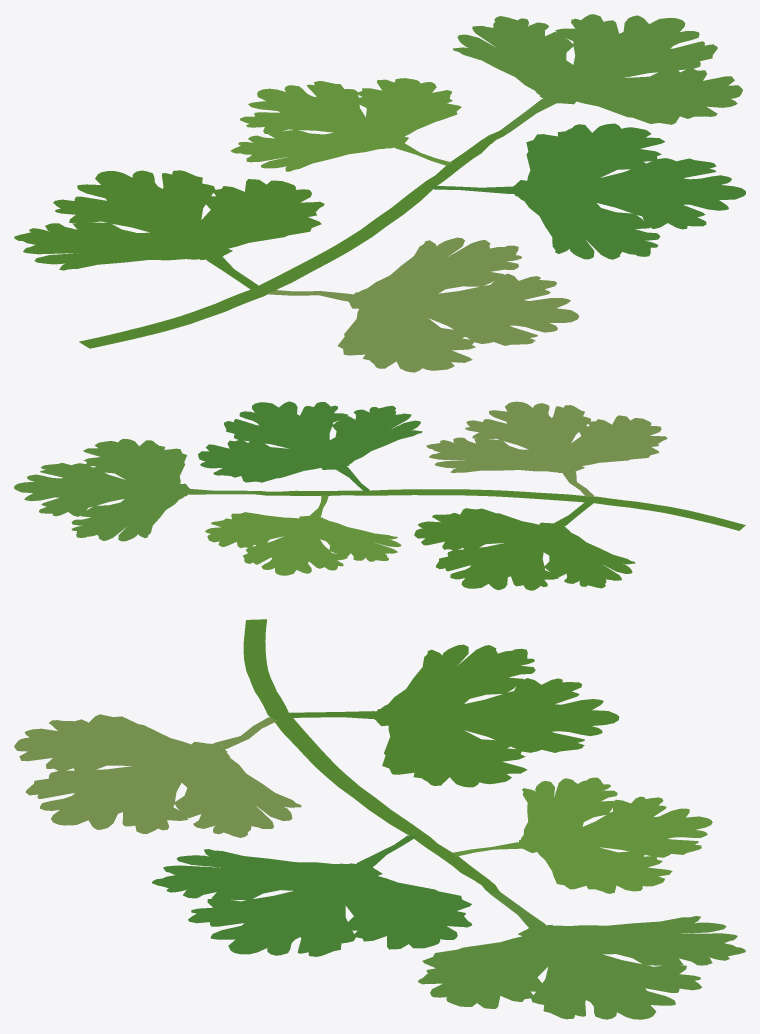
File: coriander.gltf
3 views of the same model, one above another, from view 1: azimuth 30°, elevation 25°; view 2: azimuth 150°, elevation 25°; view 3: azimuth 270°, elevation 25° (orthographic). The views are drawn at different scales.
Parts seen in each view (by area): view 1: Plane, Plane.001, Plane.003, Plane.002, Plane.004, Plane.005; view 2: Plane.001, Plane, Plane.003, Plane.002, Plane.004, Plane.005; view 3: Plane.001, Plane, Plane.003, Plane.002, Plane.004, Plane.005.
Part boxes in pixels (x1,y1,x2,y2): Plane: (14, 170, 324, 289); Plane.001: (453, 14, 742, 133); Plane.003: (269, 237, 579, 372); Plane.002: (431, 123, 745, 259); Plane.004: (230, 78, 461, 171); Plane.005: (79, 129, 507, 348); Plane.001: (14, 438, 254, 541); Plane: (414, 502, 635, 590); Plane.003: (426, 401, 667, 497); Plane.002: (198, 401, 422, 492); Plane.004: (205, 495, 401, 575); Plane.005: (251, 489, 745, 530); Plane.001: (418, 893, 745, 1019); Plane: (289, 644, 619, 787); Plane.003: (14, 714, 301, 837); Plane.002: (152, 835, 472, 956); Plane.004: (453, 777, 712, 893); Plane.005: (243, 619, 501, 893).
Size of the model in its own units: 3.55 by 4.61e-08 by 2.75.
